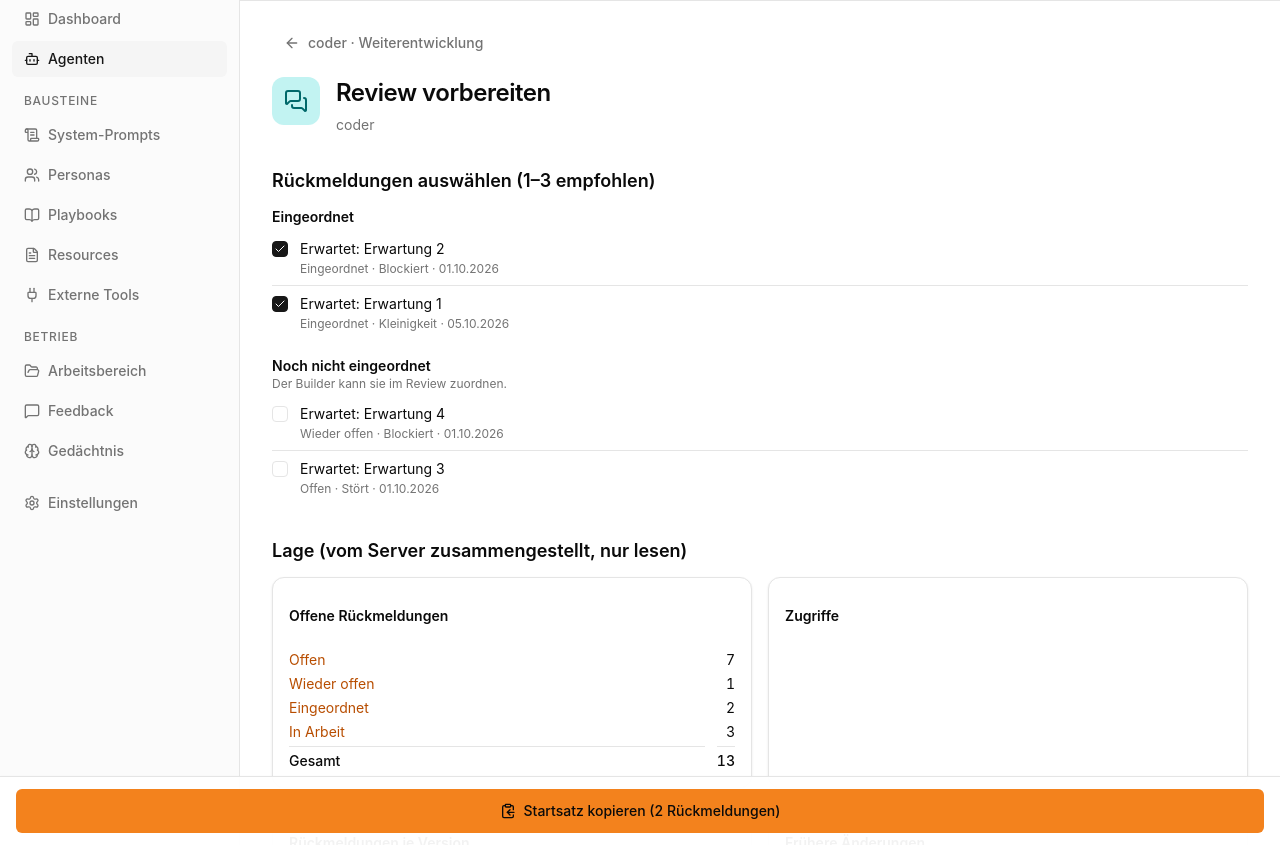
Test: 390 px › fixiert „Startsatz kopieren“ mit Anzahl und setzt scroll-padding
Click the button "Startsatz kopieren (2 Rückmeldungen)" at (640, 811), box [16,789,1264,833]
(page scrolled)
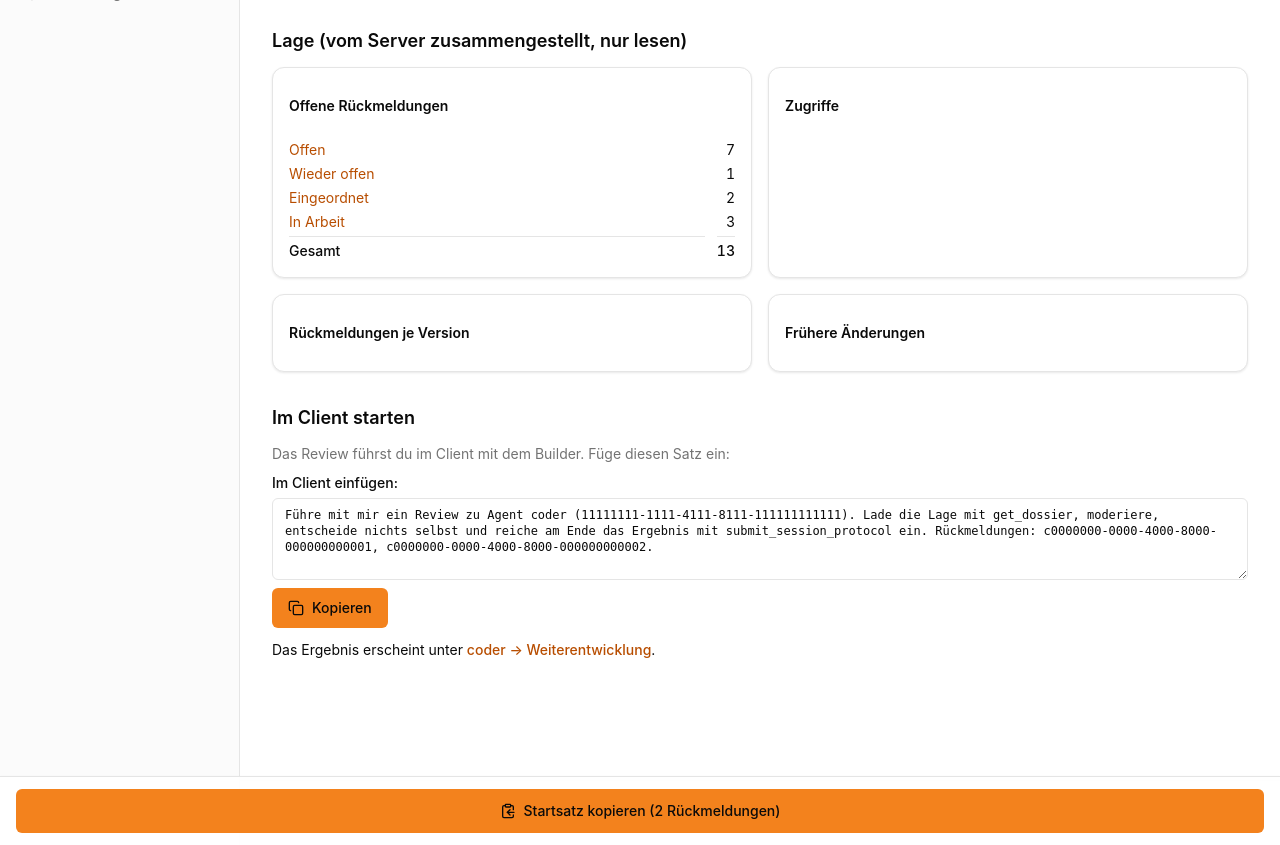
expect the element with test id "prepare-after-copy" is shown: met, box [272,641,655,658]
